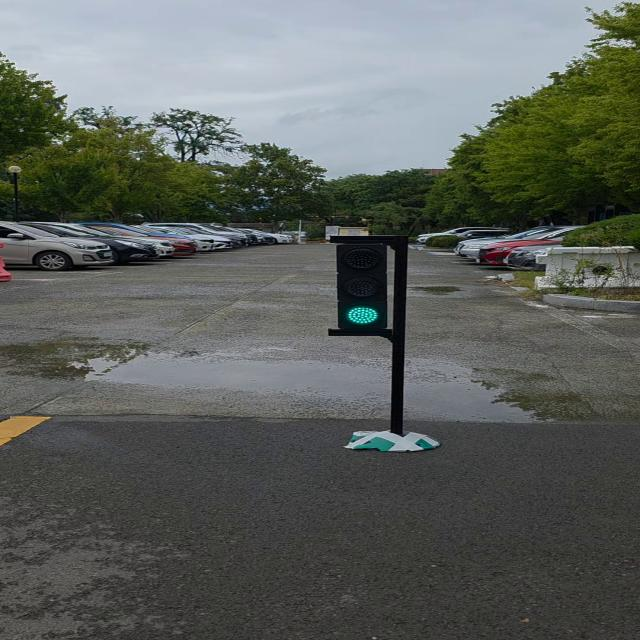green: (336, 237, 397, 335)
